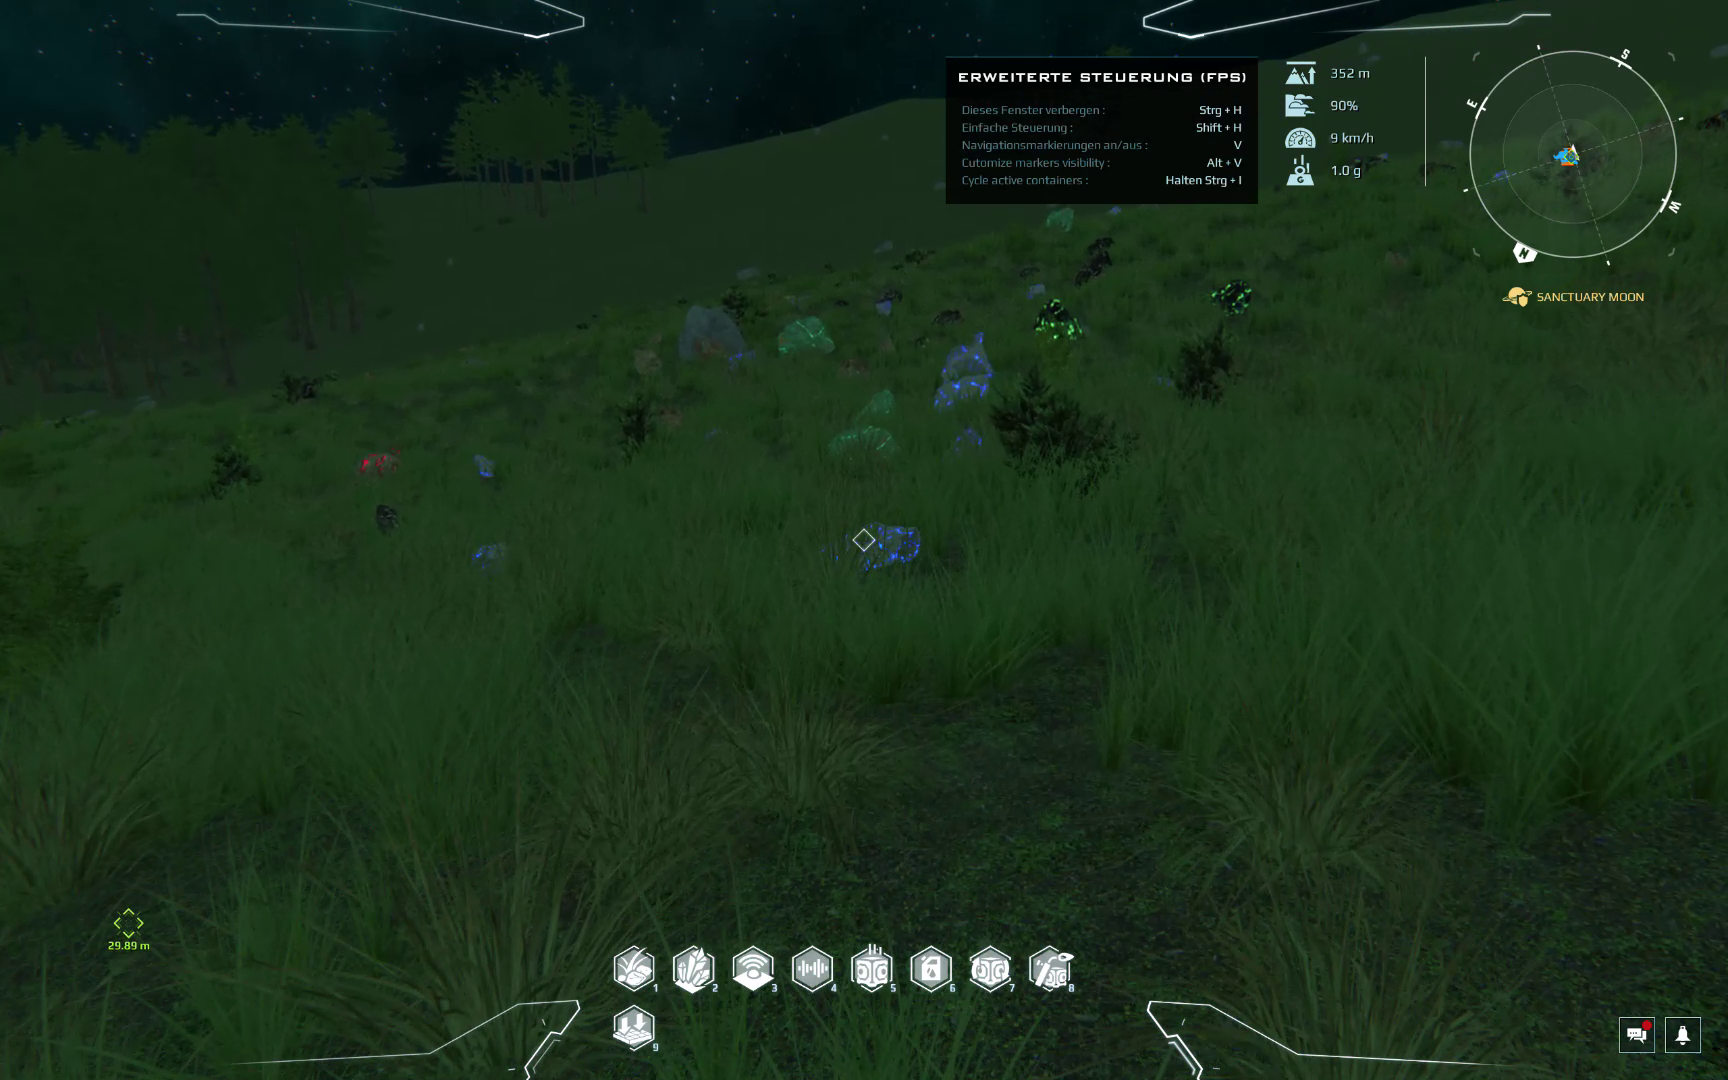Ore: (816, 513, 933, 579), (821, 384, 907, 472), (927, 328, 999, 411), (773, 309, 843, 363), (1028, 296, 1089, 346), (1067, 231, 1117, 292), (1199, 274, 1259, 322), (350, 439, 413, 482), (909, 304, 960, 356), (462, 447, 508, 498), (712, 342, 765, 384), (941, 427, 993, 464), (464, 538, 513, 575), (369, 501, 409, 541), (894, 240, 941, 272), (1040, 205, 1080, 236), (873, 284, 908, 310)
